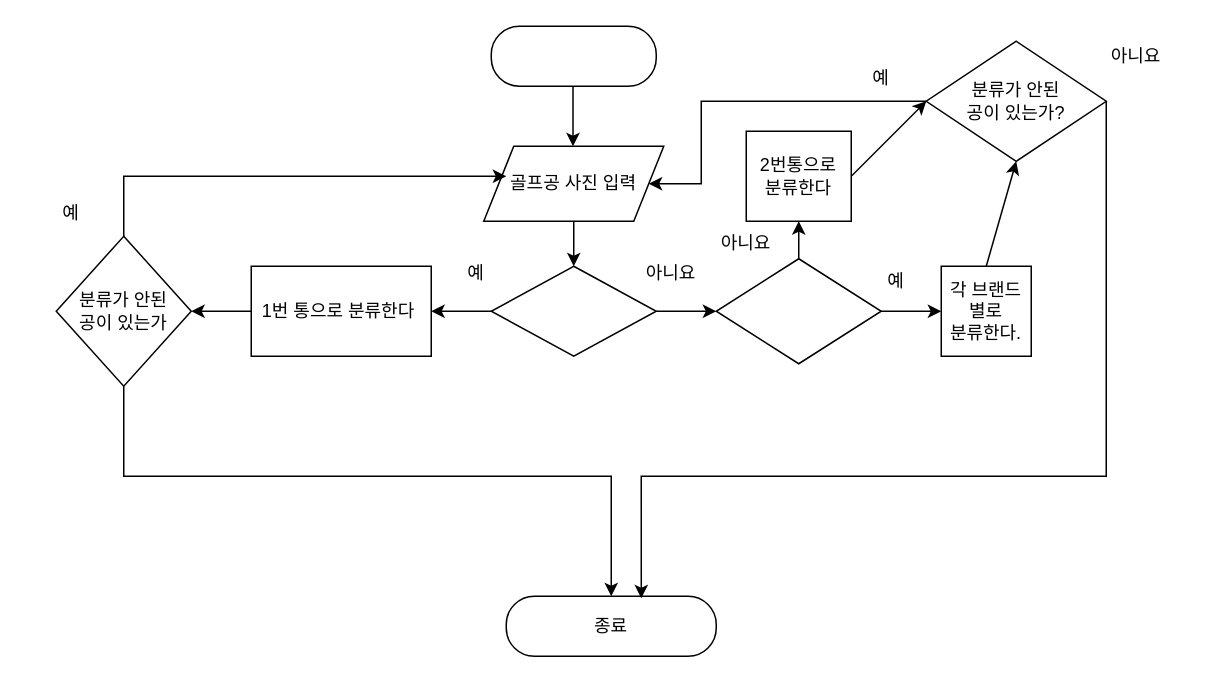
This 1206x683 diagram has some shape labels left out. Each missing label, with the centre of its shape:
"브랜드가 인식이 되는가" goes at pixel 798 310.
"색상이 존재하는가" goes at pixel 573 310.
"시작" goes at pixel 573 55.
